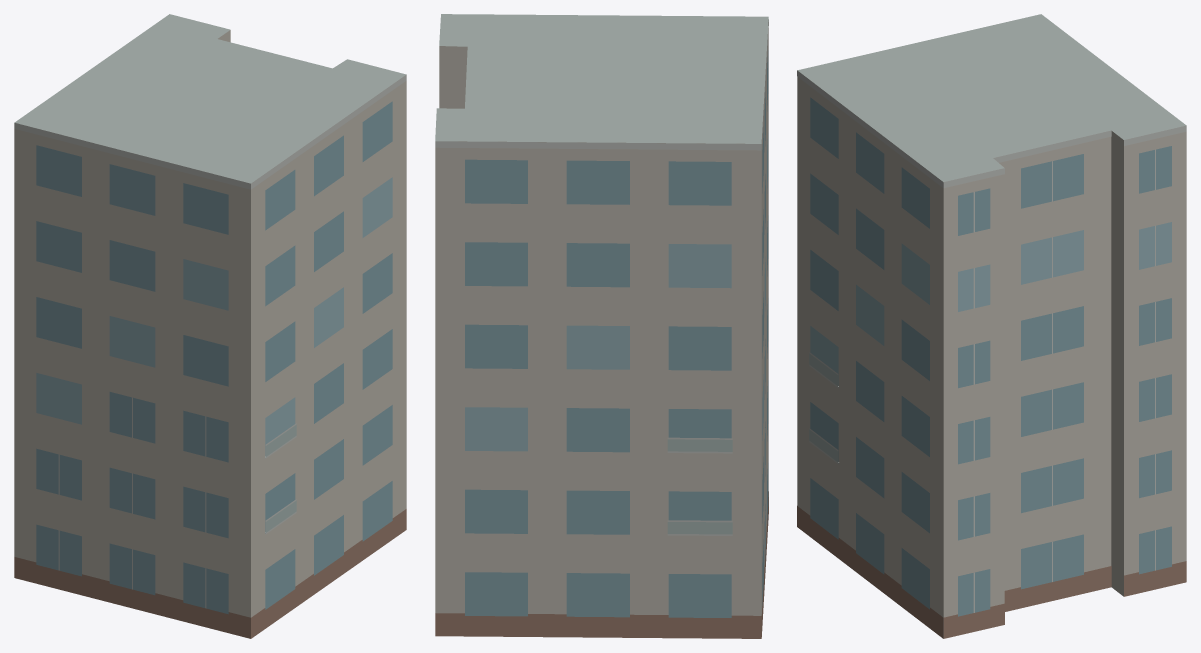
The model's file is survey-upis-32982265.glb.
3 renders of one model, left to right at view 1: azimuth 30°, elevation 25°; view 2: azimuth 150°, elevation 25°; view 3: azimuth 270°, elevation 25°, orthographic. The views are drawn at different scales.
Parts seen in each view (by area): view 1: survey-upis-32982265.tmp; view 2: survey-upis-32982265.tmp; view 3: survey-upis-32982265.tmp.
Boxes of the visible parts, x1,y1,x2,y2 form: survey-upis-32982265.tmp: (14,14,406,638); survey-upis-32982265.tmp: (435,14,768,638); survey-upis-32982265.tmp: (797,14,1186,638).
Size of the model in its own units: 14.46 by 18.3 by 14.15.
